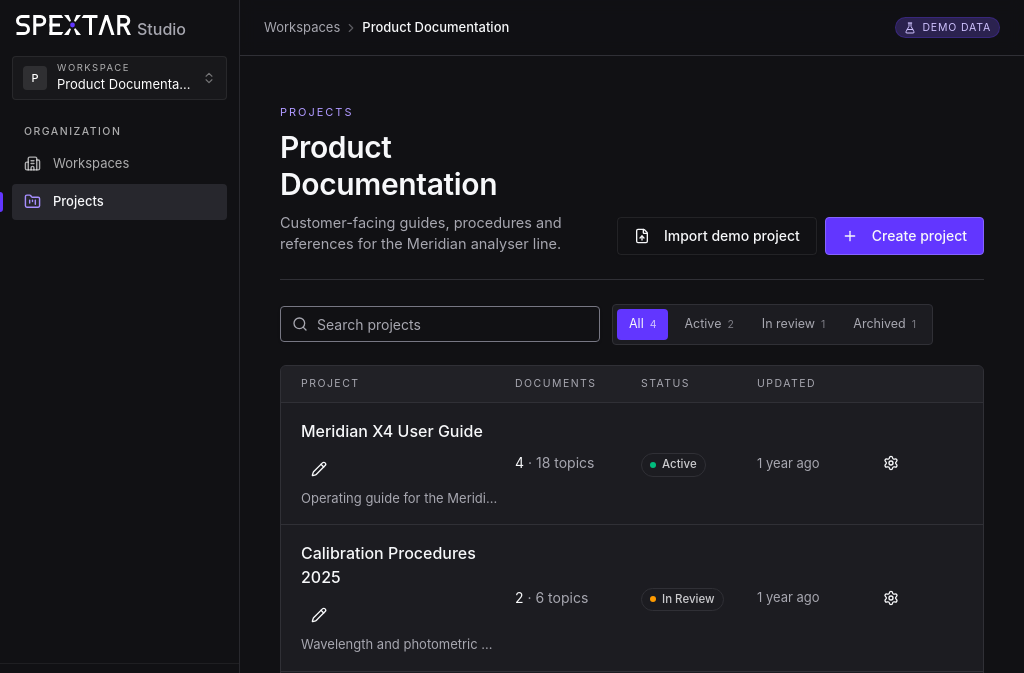
it: Project document hub › keeps meaningful demo product details while generating a hidden project key
Click the button with test id "button-create-project" at coordinates (904, 236), box [825, 217, 984, 255]
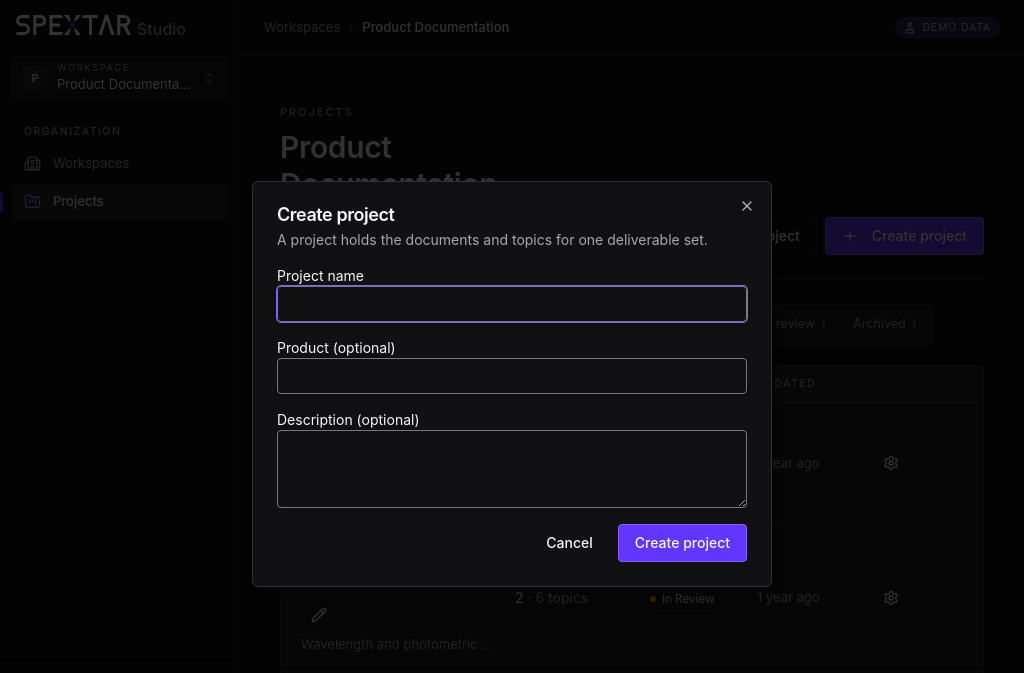
Type "Sample project" into the field with test id "input-project-name" at coordinates (512, 304), box [277, 286, 747, 322]
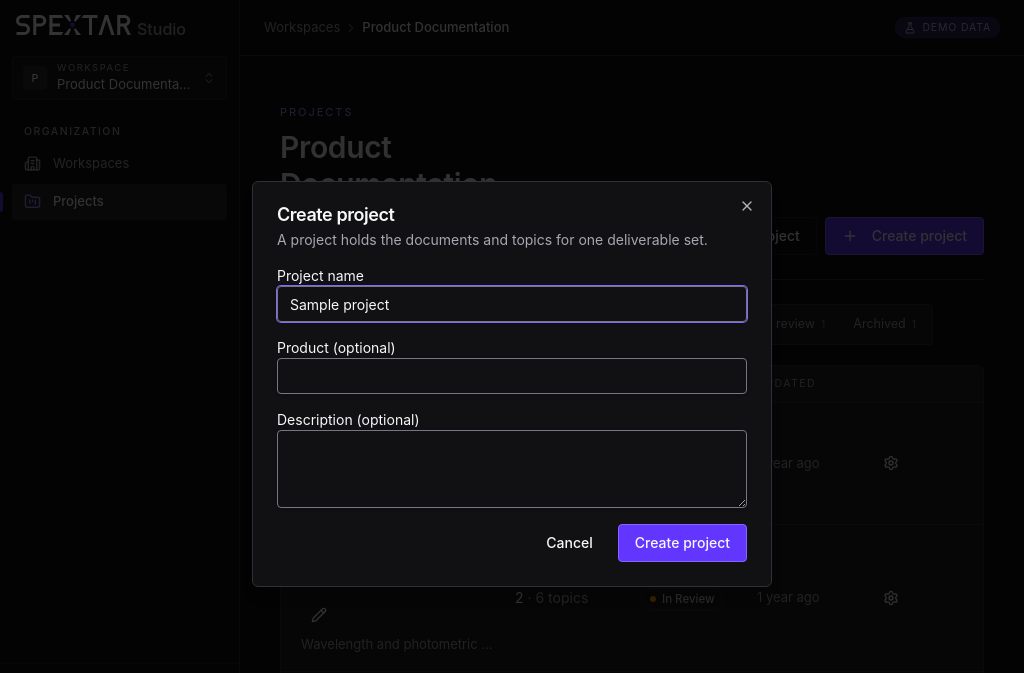
Type "Sample product" into the field with test id "input-project-product" at coordinates (512, 376), box [277, 358, 747, 394]
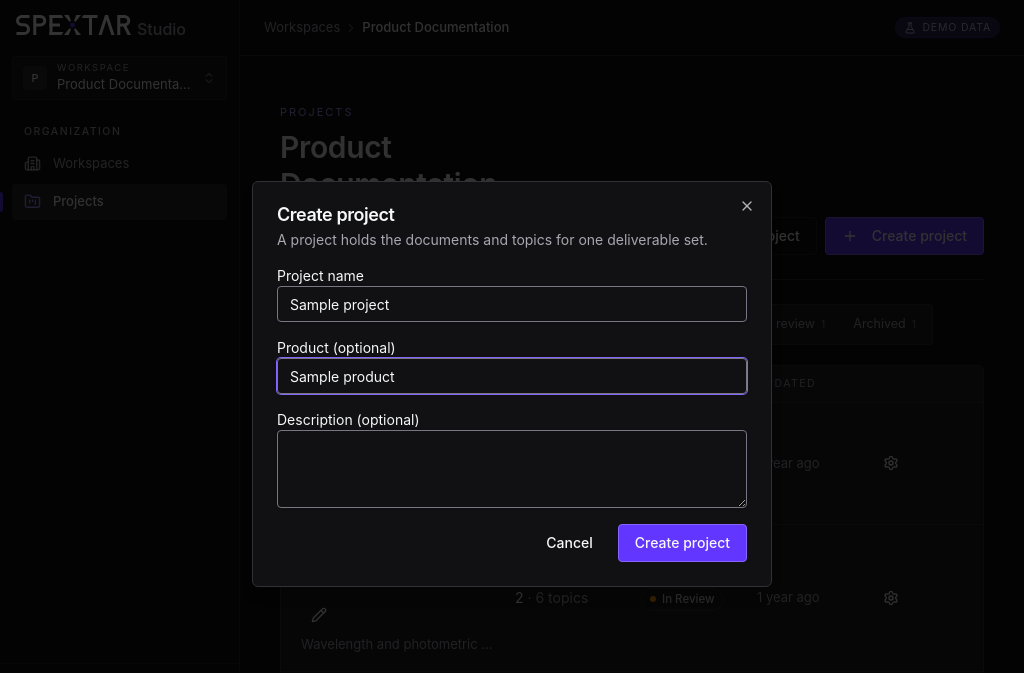
Click the button with test id "button-submit-create-project" at coordinates (682, 543), box [618, 524, 747, 562]
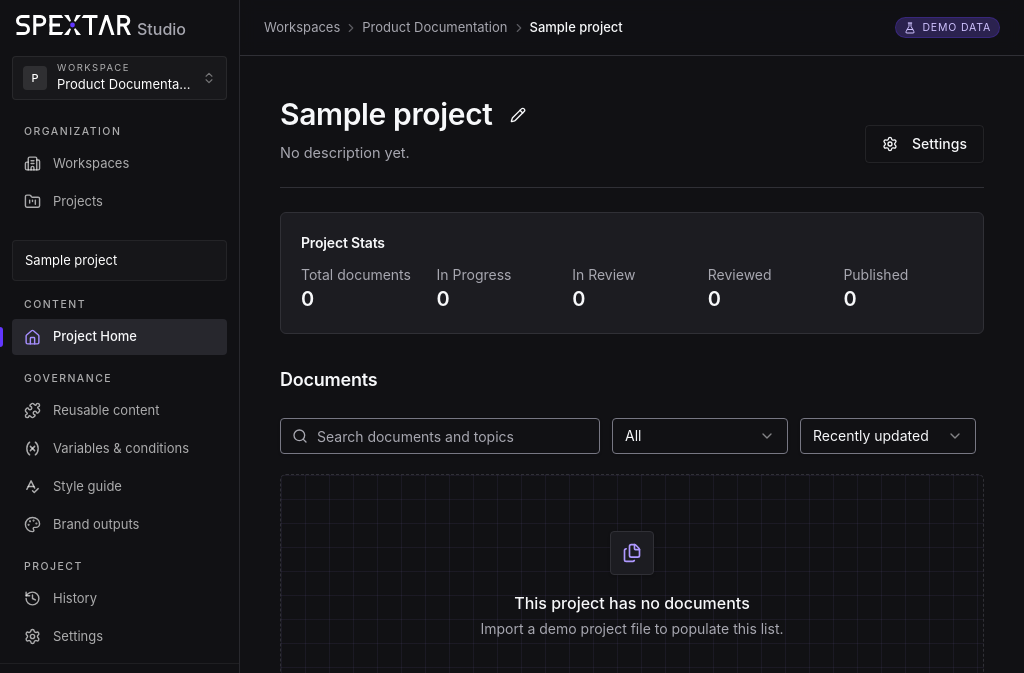
Now the heading "Project Stats" is shown, box [301, 234, 385, 251]
